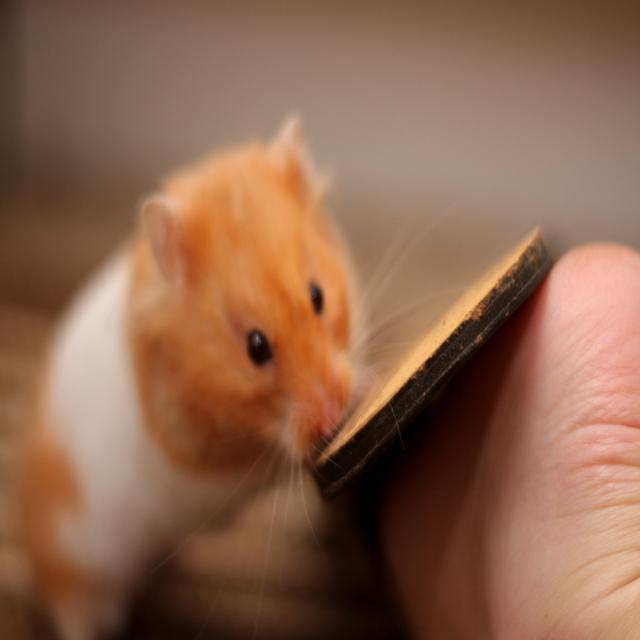rat: (14, 113, 371, 640)
